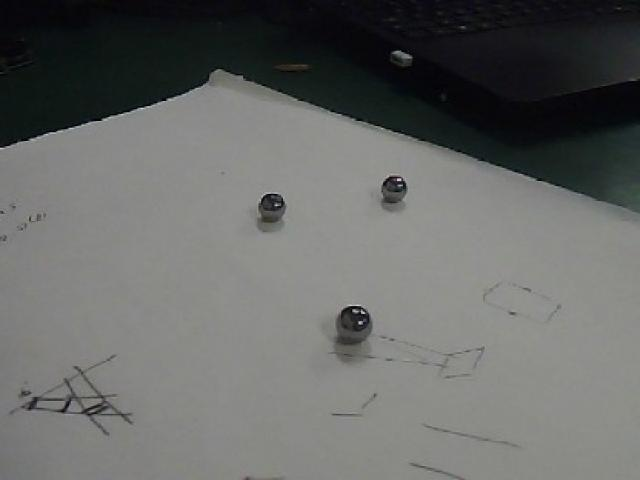steel-ball: (362, 158, 423, 225), (316, 296, 378, 359), (238, 182, 292, 236)
